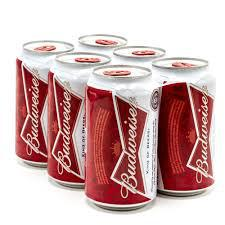beer: (14, 34, 219, 211)
